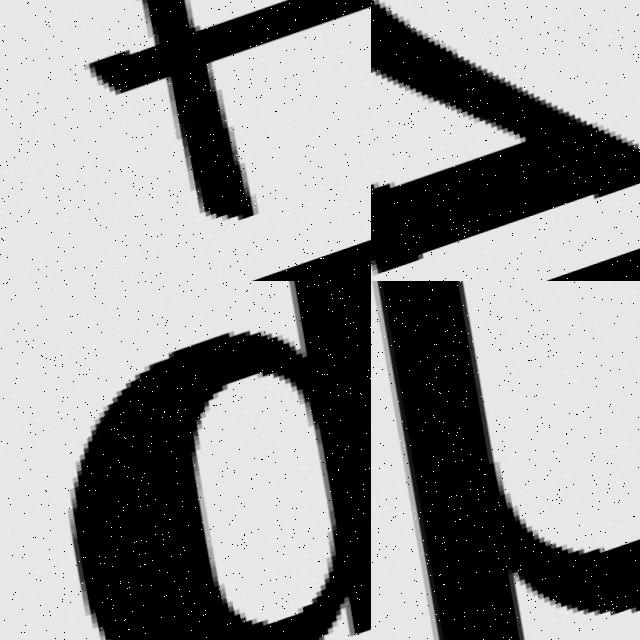2: (371, 0, 640, 281)
B: (77, 281, 371, 640)
U: (371, 281, 640, 640)
